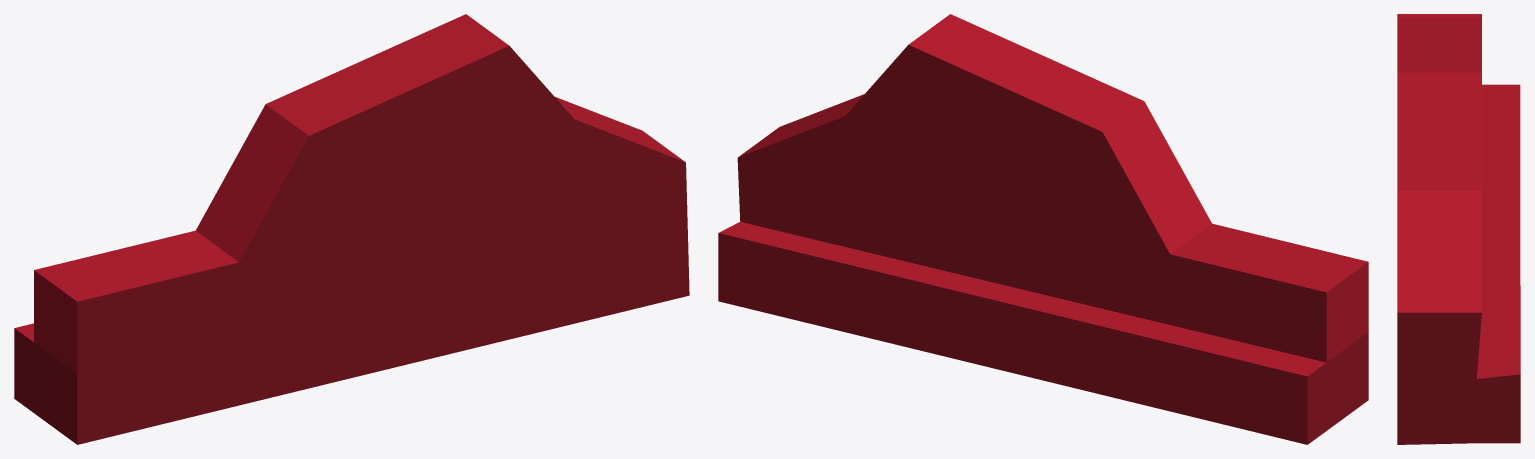
The model's file is wall_damaged_02.fbx.
3 renders of one model, left to right at view 1: azimuth 30°, elevation 25°; view 2: azimuth 150°, elevation 25°; view 3: azimuth 270°, elevation 25°, orthographic. The views are drawn at different scales.
Parts seen in each view (by area): view 1: wall_damaged_02; view 2: wall_damaged_02; view 3: wall_damaged_02.
Boxes of the visible parts, x1,y1,x2,y2 form: wall_damaged_02: (14,14,689,444); wall_damaged_02: (718,14,1368,444); wall_damaged_02: (1397,14,1520,444).
Bounding box in the file's own units: 134 × 61.42 × 23.92.
